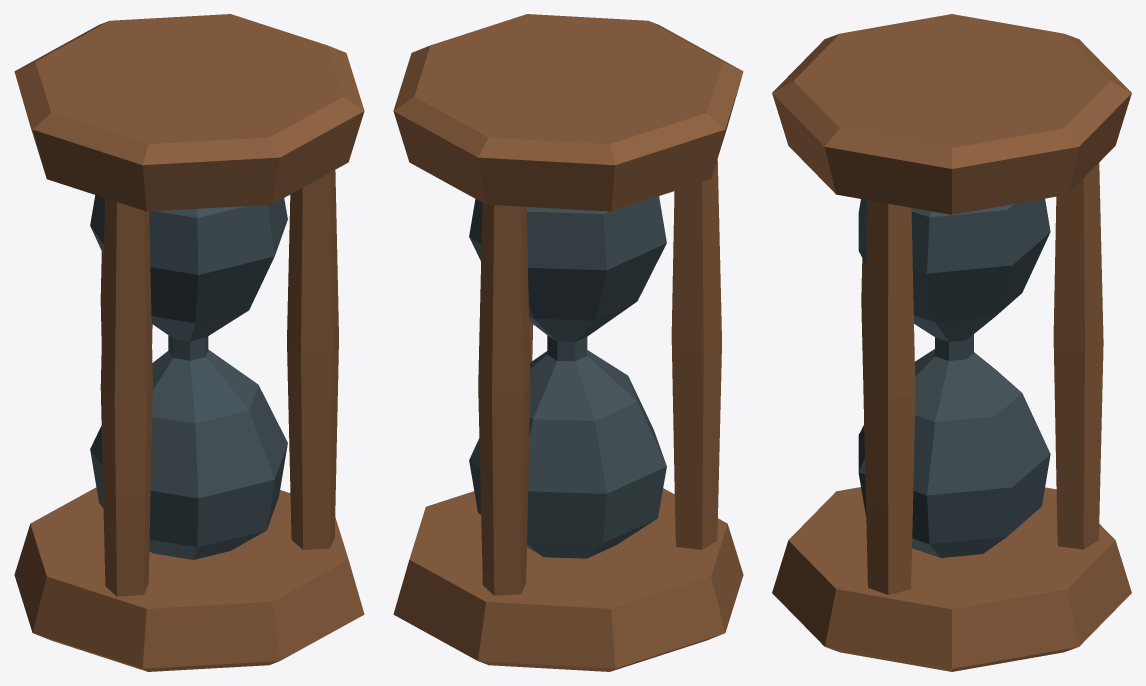
File: props_hourglass.fbx
The picture shows the model from 3 angles, left to right: view 1: azimuth 30°, elevation 25°; view 2: azimuth 150°, elevation 25°; view 3: azimuth 270°, elevation 25°; orthographic projection.
Parts seen in each view (by area): view 1: props_hourglass; view 2: props_hourglass; view 3: props_hourglass.
Part boxes in pixels (x1=…): props_hourglass: x1=14, y1=14, x2=364, y2=671; props_hourglass: x1=393, y1=14, x2=743, y2=671; props_hourglass: x1=772, y1=14, x2=1131, y2=671.
Bounding box in the file's own units: 124 × 199 × 124.
